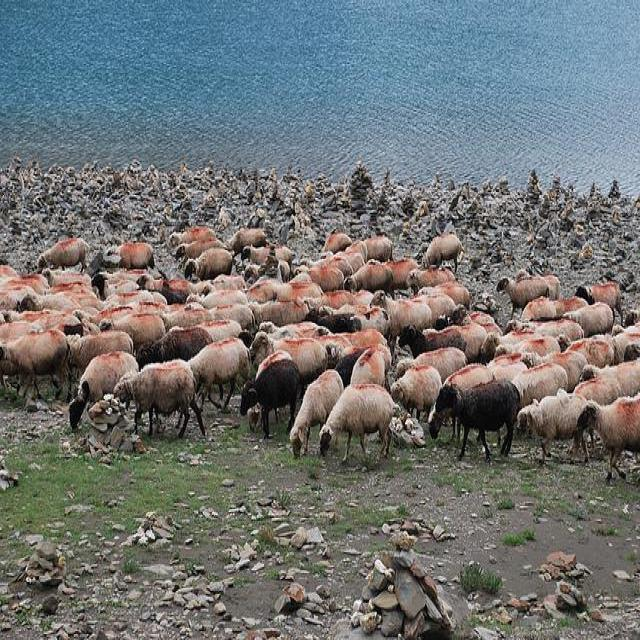Sheep: (0, 223, 639, 447), (436, 379, 521, 463), (114, 360, 208, 435), (318, 388, 401, 469), (250, 332, 329, 409), (69, 349, 140, 432), (576, 392, 639, 482), (0, 330, 69, 411), (516, 394, 590, 466), (290, 369, 345, 460), (240, 360, 301, 439), (188, 336, 251, 411), (369, 290, 432, 363), (392, 363, 442, 423)
